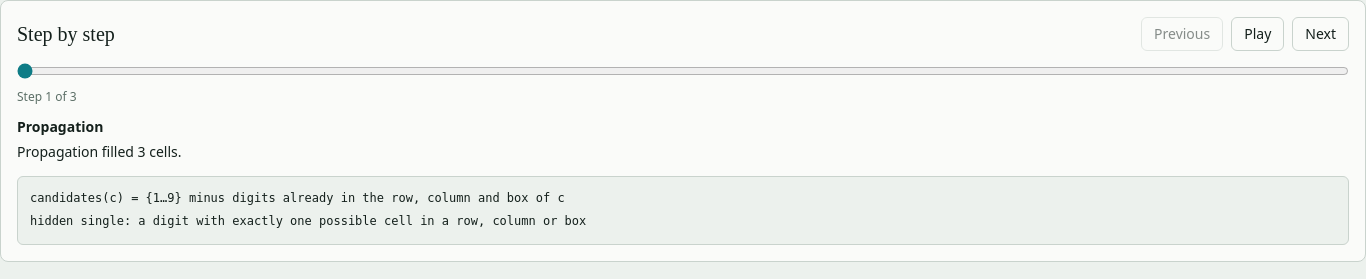
Test: trace views › steps through the trace
Expected: the text with test id "step-description" reads "Propagation filled 3 cells.", [17,142,182,161]
Click the button "Next".
click(1321, 34)  # box [1292,17,1349,51]
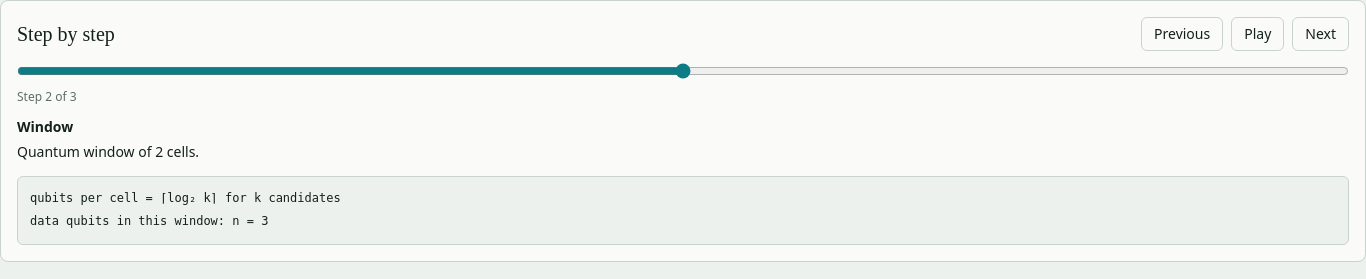
Expected: the text with test id "step-description" reads "Quantum window of 2 cells.", [17,142,199,161]
Click the button "Previous".
click(1182, 34)  # box [1141,17,1223,51]
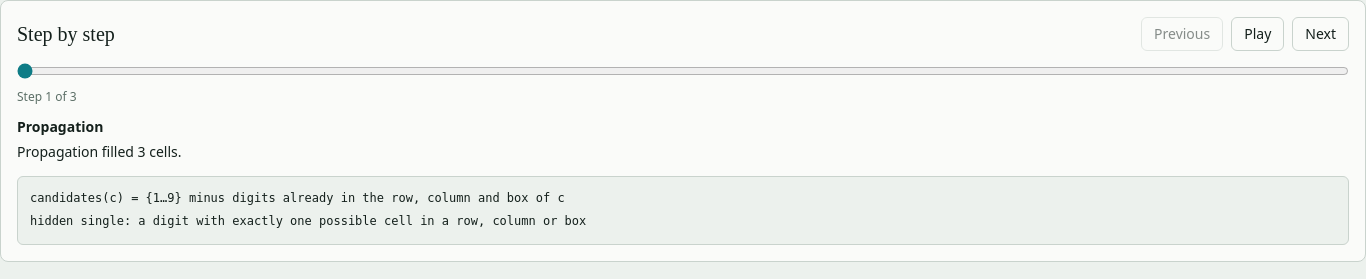
Expected: the text "Step 1 of 3" is shown, [17,88,77,105]
